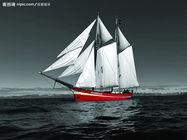fanchuan: (40, 14, 140, 104)
